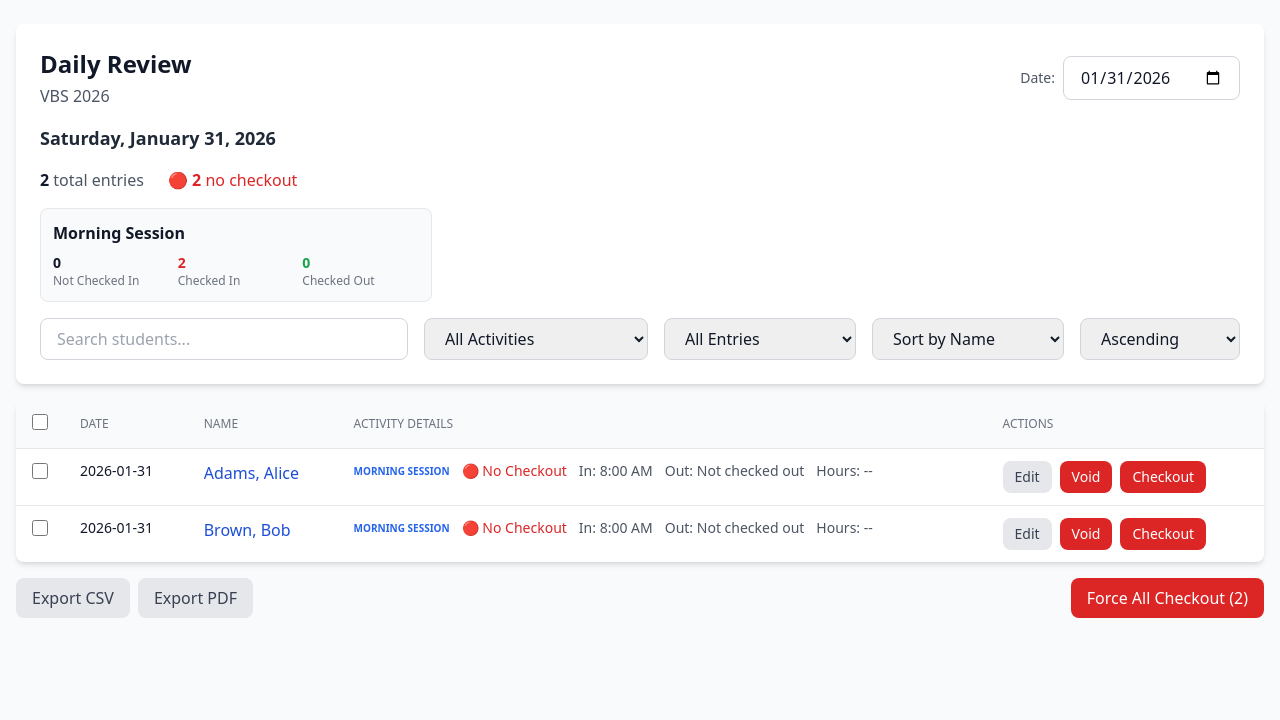
DailyReview Bulk Selection › should show bulk action toolbar when an entry is selected
The width and height of the screenshot is (1280, 720).
Click the checkbox named "Select entry for Alice Adams - Morning Session": (40, 471) x1=32 y1=463 x2=48 y2=479
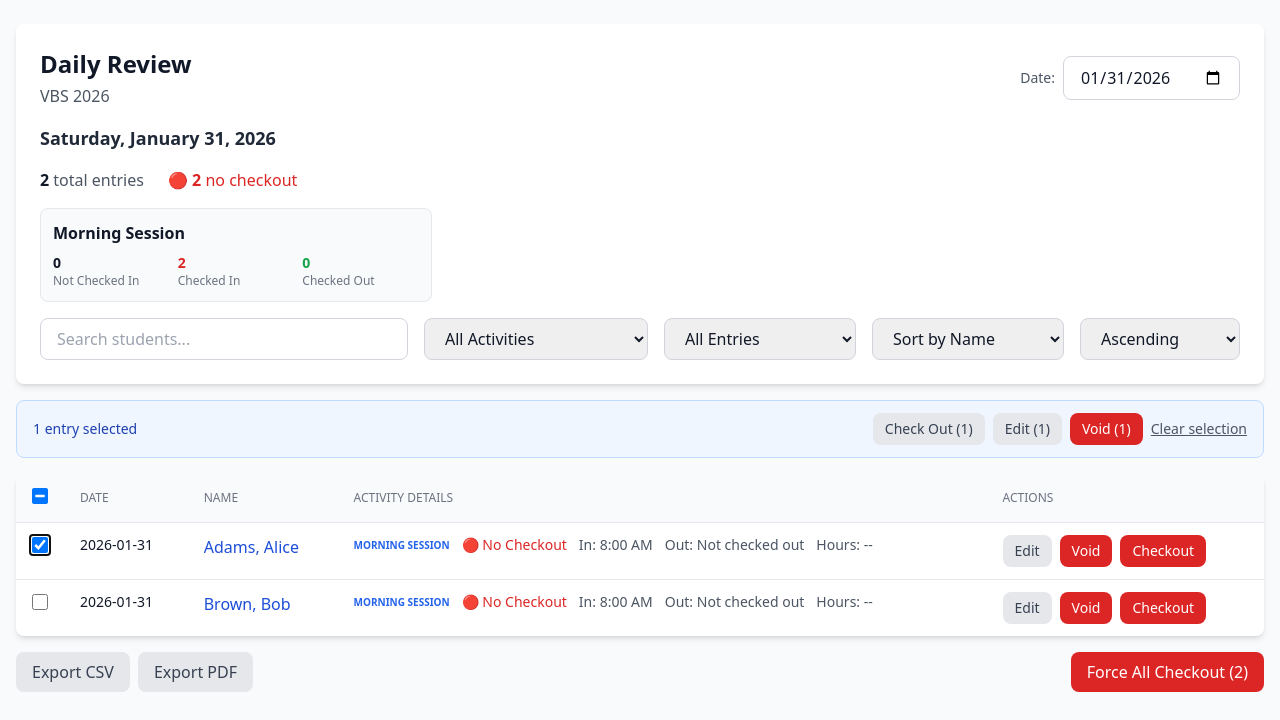
Check: the text "1 entry selected" is shown, box x1=33 y1=419 x2=137 y2=439
